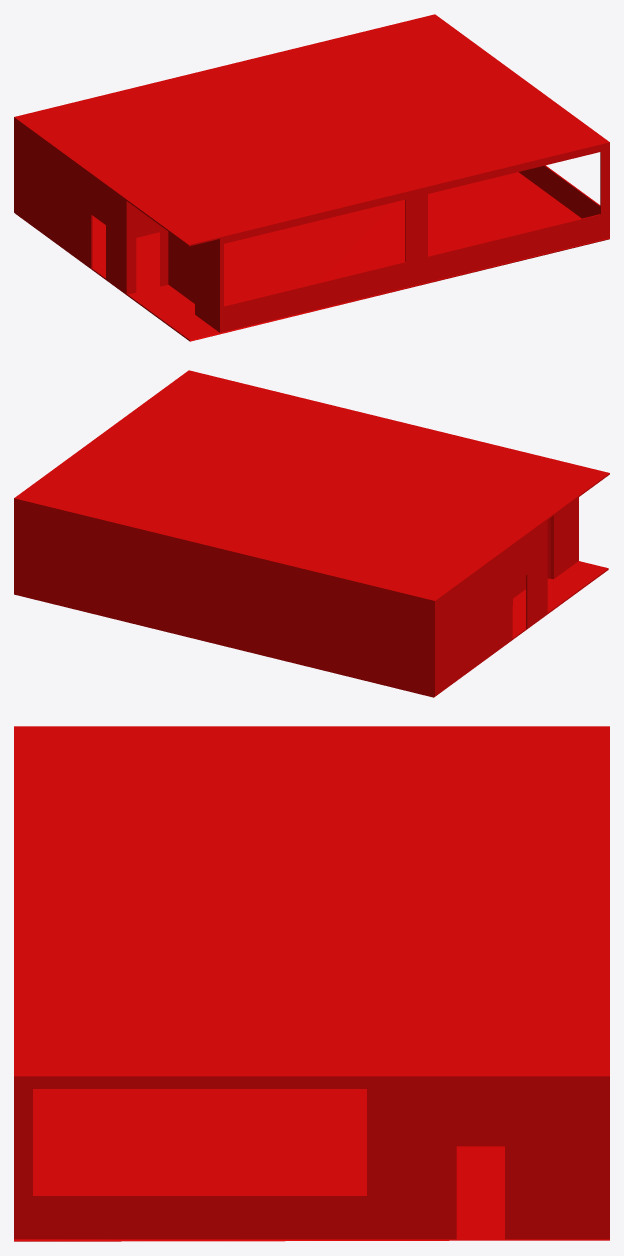
The model's file is procthor_environments_office_grp.fbx.
3 views of the same model, one above another, from view 1: azimuth 30°, elevation 25°; view 2: azimuth 150°, elevation 25°; view 3: azimuth 270°, elevation 25° (orthographic). The views are drawn at different scales.
Parts seen in each view (by area): view 1: procthor_environment_office_ceiling, procthor_environment_office_walls, procthor_environment_office_floor; view 2: procthor_environment_office_ceiling, procthor_environment_office_walls, procthor_environment_office_floor; view 3: procthor_environment_office_ceiling, procthor_environment_office_walls, procthor_environment_office_floor.
Part boxes in pixels (x1,y1,x2,y2): procthor_environment_office_ceiling: [14, 14, 609, 246]; procthor_environment_office_walls: [14, 118, 609, 332]; procthor_environment_office_floor: [16, 172, 609, 341]; procthor_environment_office_ceiling: [14, 370, 609, 602]; procthor_environment_office_walls: [14, 497, 578, 696]; procthor_environment_office_floor: [14, 561, 608, 697]; procthor_environment_office_ceiling: [14, 726, 609, 1078]; procthor_environment_office_walls: [14, 1079, 609, 1239]; procthor_environment_office_floor: [14, 1089, 609, 1241].
Bounding box in the file's own units: 1677 × 369 × 1206.
